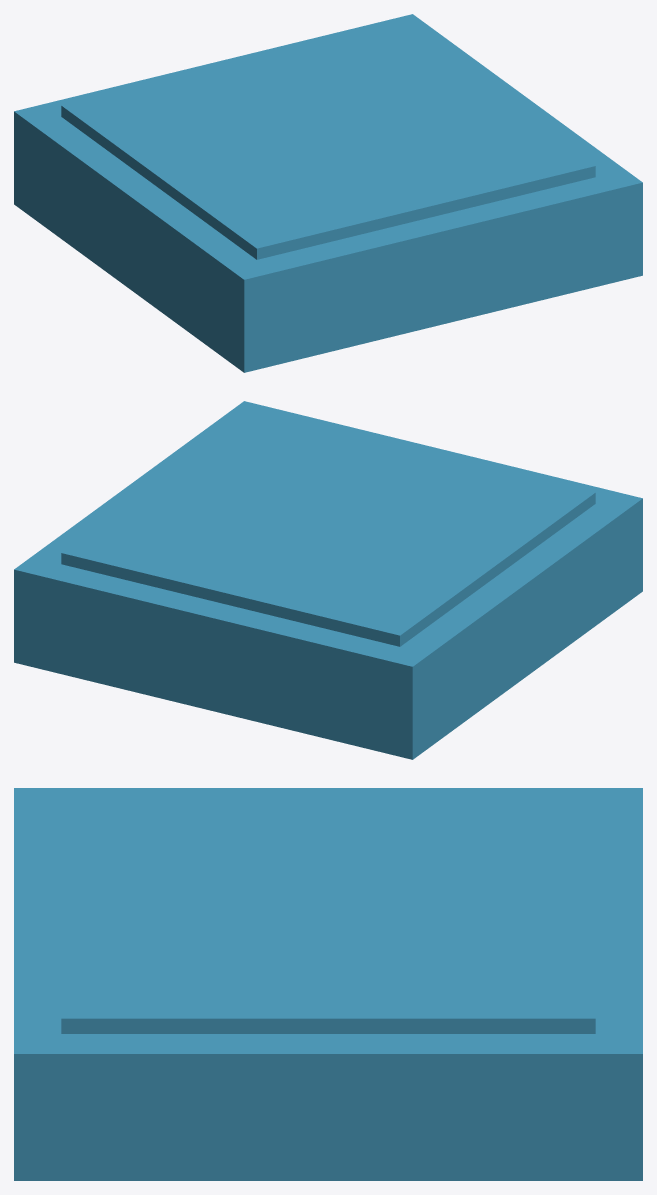
The model's file is diamond_floor_button.fbx.
3 renders of one model, top to bottom at view 1: azimuth 30°, elevation 25°; view 2: azimuth 150°, elevation 25°; view 3: azimuth 270°, elevation 25°, orthographic. The views are drawn at different scales.
Parts seen in each view (by area): view 1: Cube; view 2: Cube; view 3: Cube.
Part boxes in pixels (x1,y1,x2,y2): Cube: (14, 14, 642, 372); Cube: (14, 401, 642, 759); Cube: (14, 788, 642, 1180).
Size of the model in its own units: 80 by 20 by 80.
